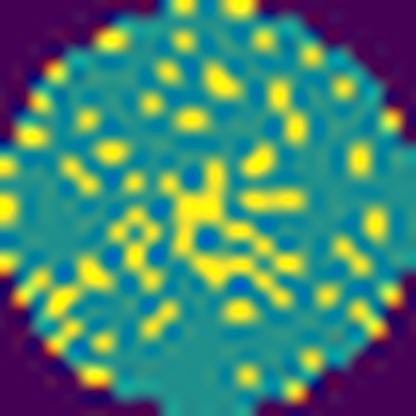Center: (162, 164, 308, 310)
